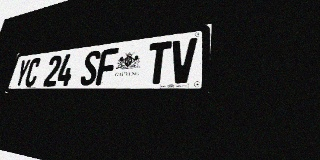2: (43, 55, 63, 86)
4: (55, 53, 76, 86)
C: (23, 57, 42, 87)
F: (95, 48, 119, 85)
S: (79, 50, 101, 86)
T: (145, 41, 172, 84)
V: (169, 38, 197, 84)
Y: (13, 59, 31, 87)
